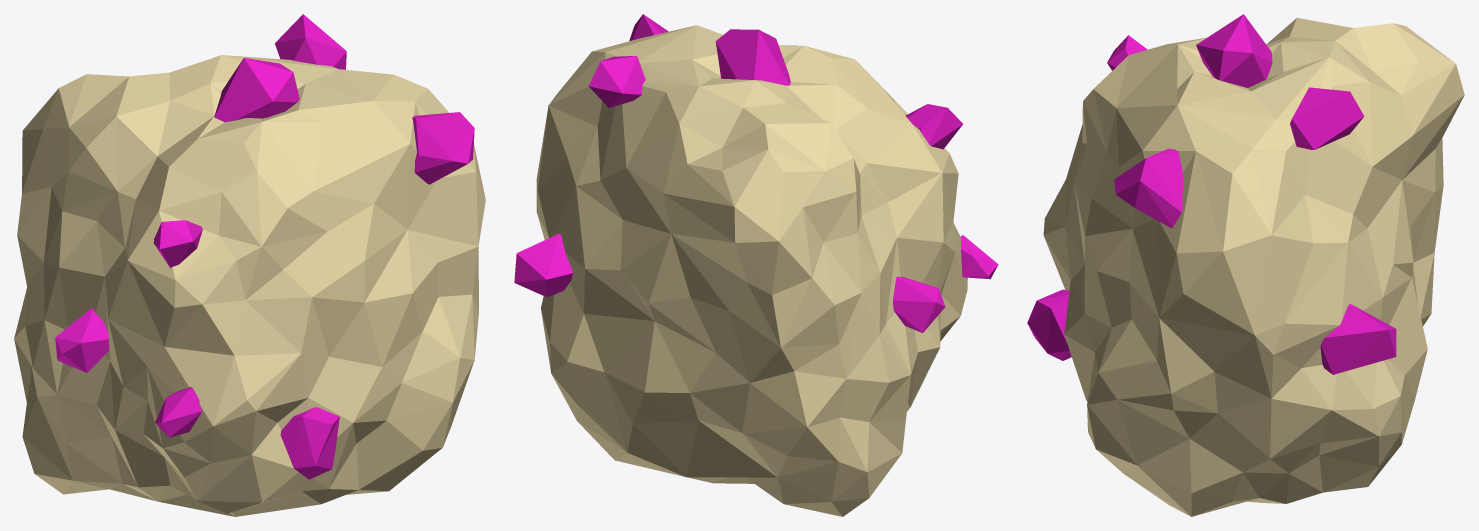
Rendered from CrystalOre (31).fbx.
3 views of the same model, side by side, from view 1: azimuth 30°, elevation 25°; view 2: azimuth 150°, elevation 25°; view 3: azimuth 270°, elevation 25° (orthographic). The views are drawn at different scales.
Visible parts, largest first — view 1: Asteroid251; view 2: Asteroid251; view 3: Asteroid251.
Boxes of the visible parts, bbox=[...] form: Asteroid251: bbox=[14, 14, 485, 516]; Asteroid251: bbox=[514, 14, 998, 516]; Asteroid251: bbox=[1027, 14, 1464, 516].
Size of the model in its own units: 405 by 422 by 366.
